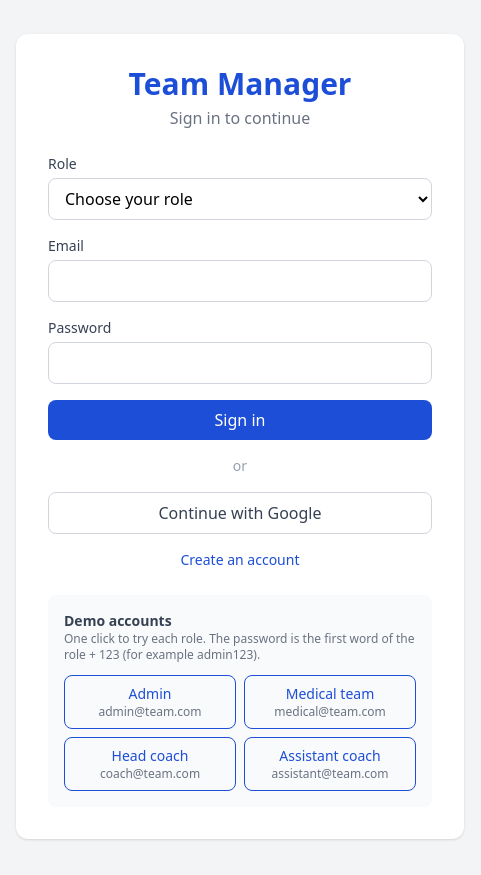
shows an error if google fails
The width and height of the screenshot is (481, 875).
Select "Admin" in the dropdown labelled "Role": [240, 198] box [48, 178, 432, 220]
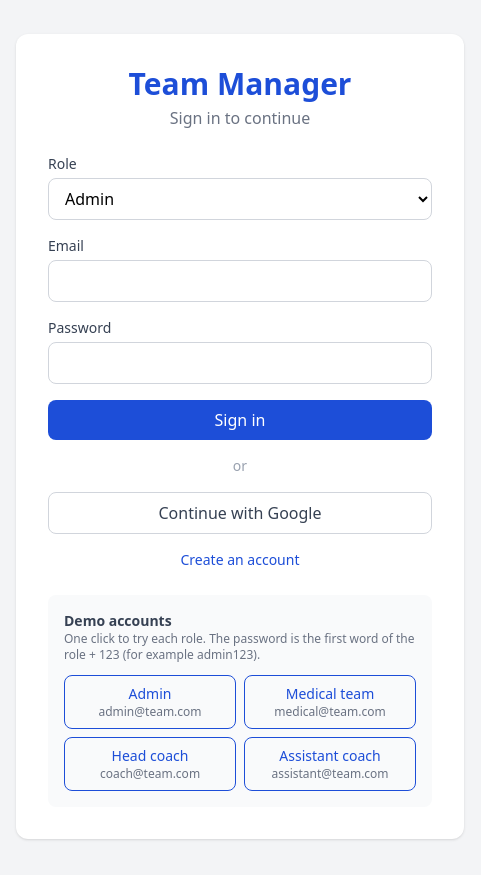
Click the button "Continue with Google": [240, 512] box [48, 492, 432, 534]
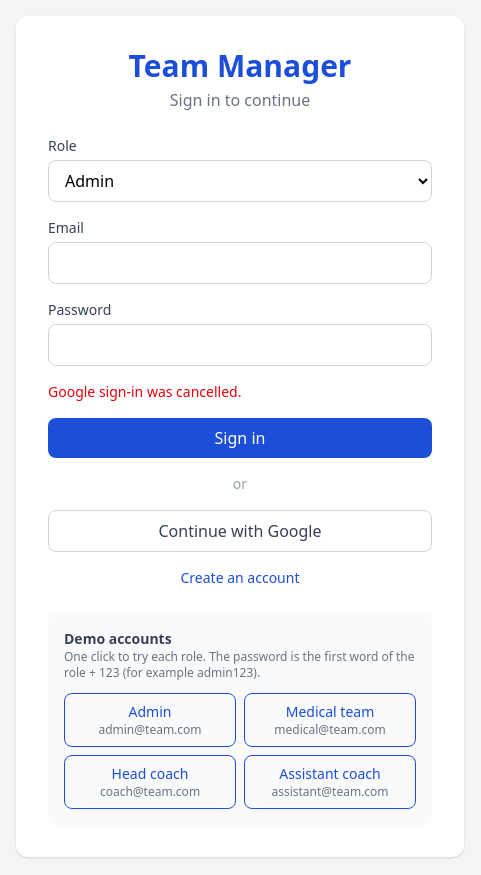
Check: the text "Google sign-in was cancelled." is shown, box [48, 382, 241, 400]
